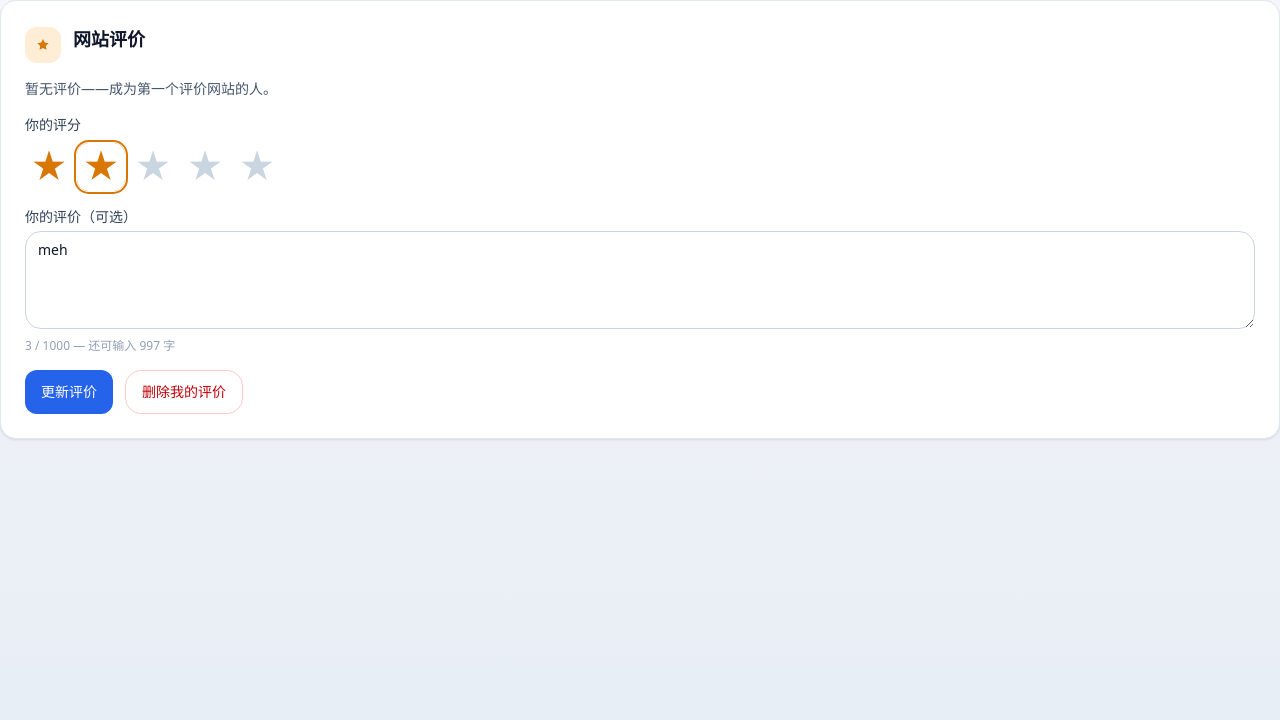
FeedbackForm › shows a distinct updated message when editing an existing rating
The width and height of the screenshot is (1280, 720).
Expected: the text box showing "meh" is shown, [25,231,1255,329]
Step 1. Click the radio button named "4 星" → (205, 167), box [181,143,229,191]
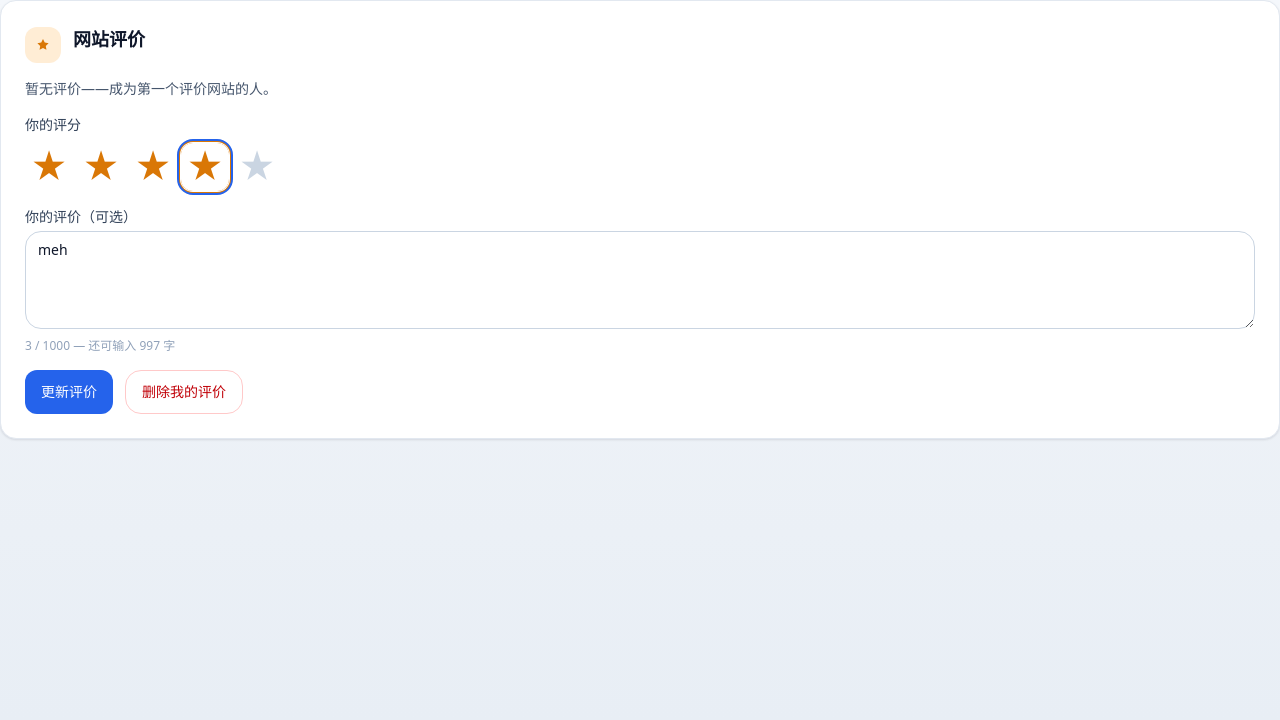
Step 2. Replace the text in the text box with "better now" → (640, 280), box [25,231,1255,329]
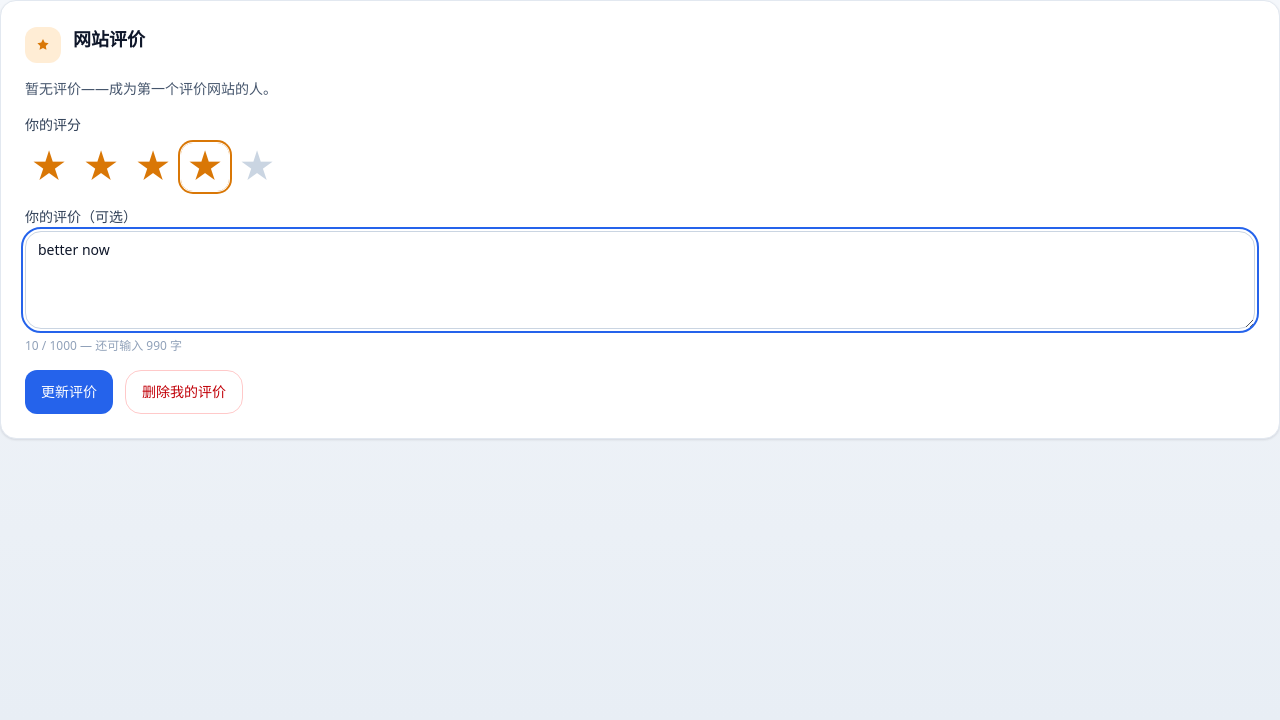
Step 3. Click the button "更新评价" → (69, 392), box [25,370,113,414]
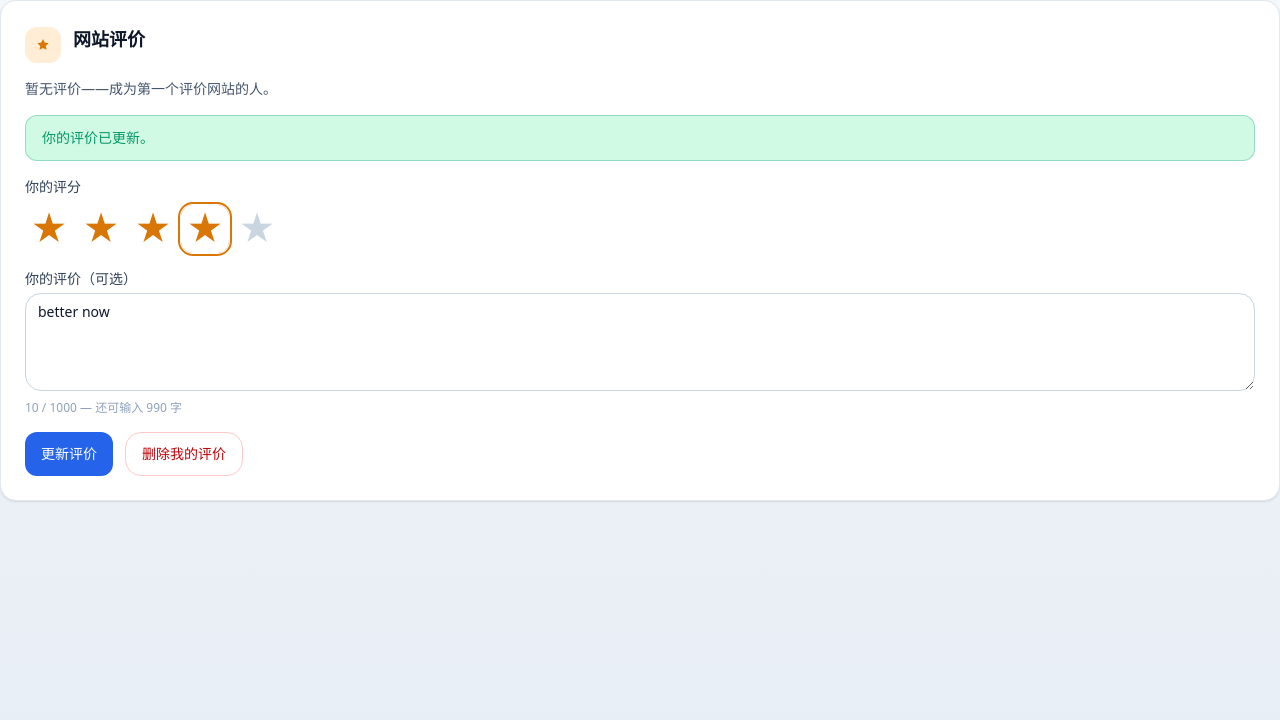
Expected: the text "你的评价已更新。" is shown, [25,115,1255,161]
